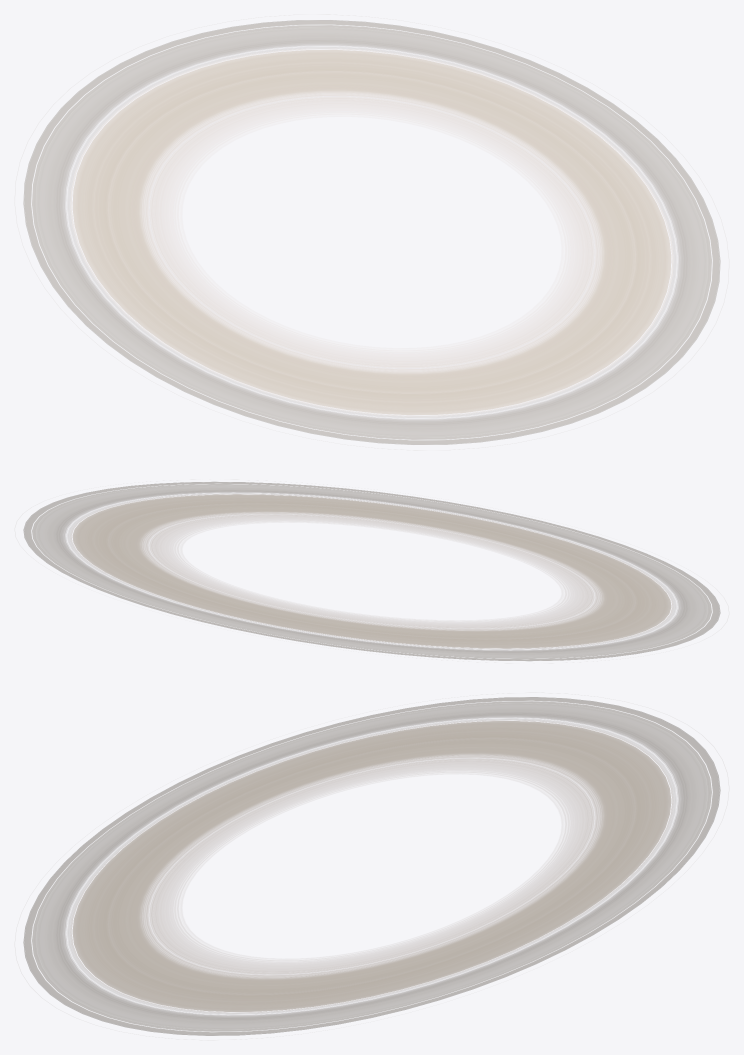
File: SRing.glb
3 renders of one model, top to bottom at view 1: azimuth 30°, elevation 25°; view 2: azimuth 150°, elevation 25°; view 3: azimuth 270°, elevation 25°, orthographic. The views are drawn at different scales.
Parts seen in each view (by area): view 1: RingsTop_7; view 2: RingsTop_7; view 3: RingsTop_7.
Boxes of the visible parts, x1=… form: RingsTop_7: x1=23, y1=20, x2=720, y2=444; RingsTop_7: x1=23, y1=481, x2=720, y2=661; RingsTop_7: x1=23, y1=697, x2=720, y2=1035.
Bounding box in the file's own units: 164 × 38.46 × 160.
1 material, 1 textured.
